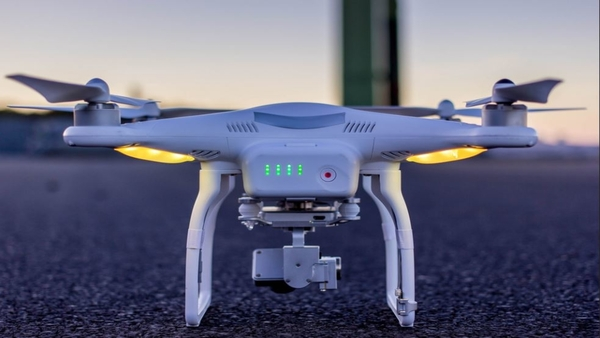drone: (3, 70, 587, 330)
